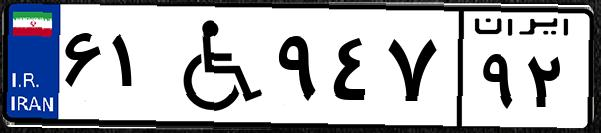1: (110, 28, 158, 98)
2: (525, 38, 570, 115)
4: (330, 28, 385, 110)
6: (57, 26, 110, 100)
7: (385, 28, 445, 110)
9: (270, 28, 330, 110), (475, 38, 525, 113)
ژ (معلولین و جانبازان): (158, 12, 270, 120)
